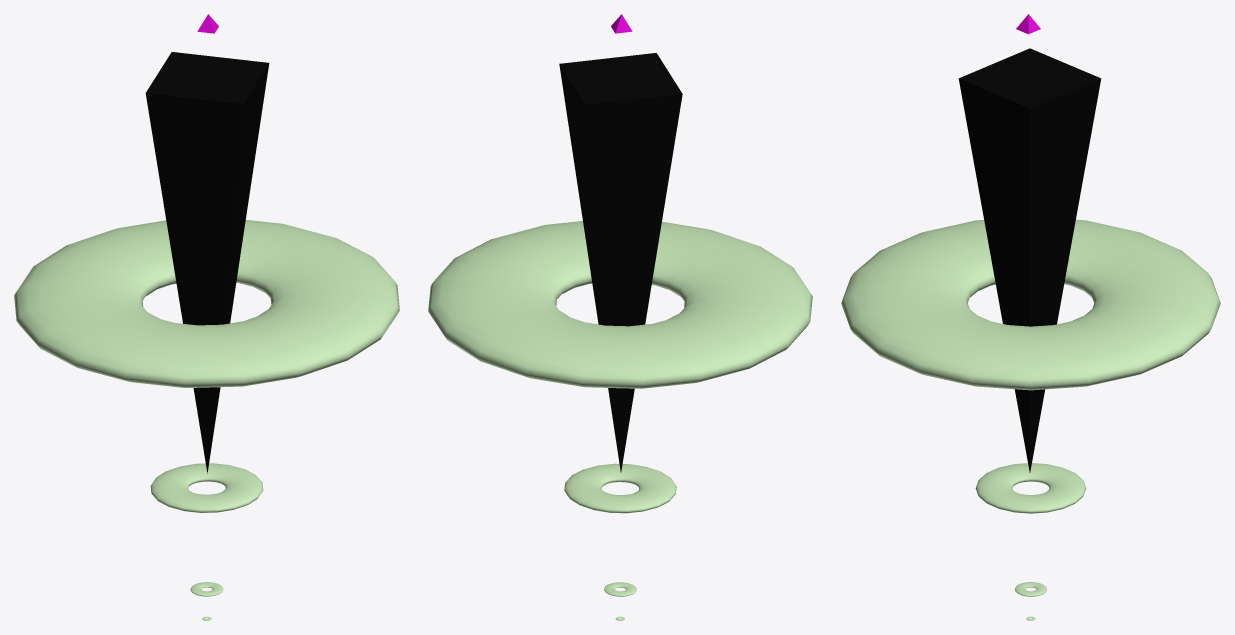
Rendered from prop_sharperpowerup_charlize.fbx.
The picture shows the model from 3 angles, left to right: view 1: azimuth 30°, elevation 25°; view 2: azimuth 150°, elevation 25°; view 3: azimuth 270°, elevation 25°; orthographic projection.
Parts seen in each view (by area): view 1: prop_sharperpowerup_charlize; view 2: prop_sharperpowerup_charlize; view 3: prop_sharperpowerup_charlize.
Boxes of the visible parts, x1,y1,x2,y2 form: prop_sharperpowerup_charlize: (14, 14, 399, 620); prop_sharperpowerup_charlize: (428, 14, 812, 620); prop_sharperpowerup_charlize: (841, 14, 1220, 620).
Bounding box in the file's own units: 0.9892 × 1.69 × 0.9615.
